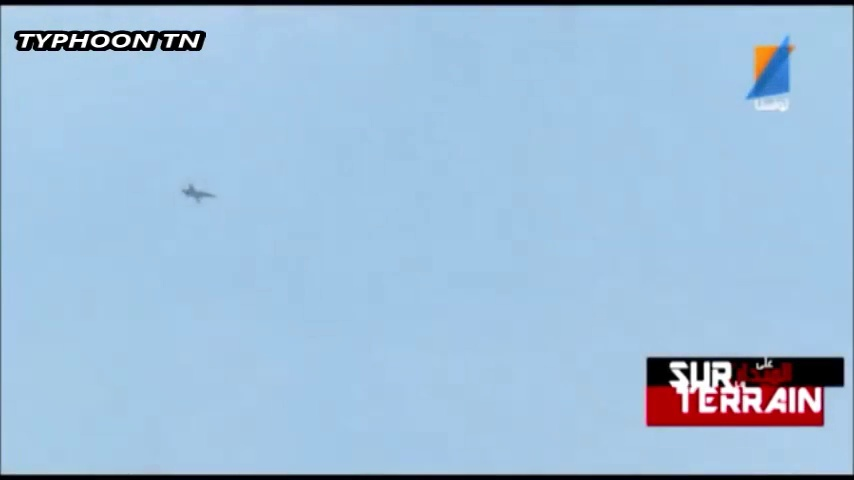Airplane: (179, 184, 216, 201)
